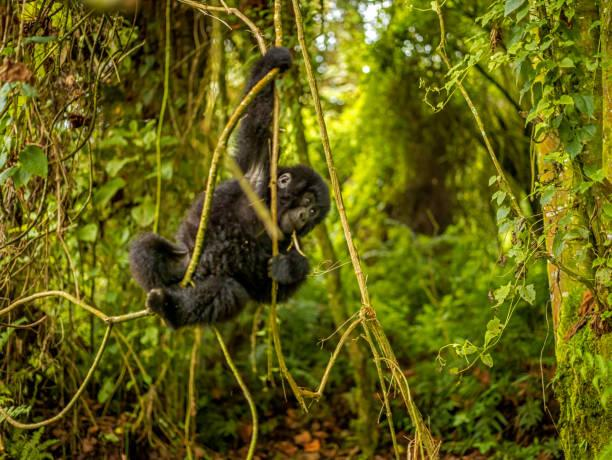goriile_montagne: (130, 103, 327, 334)
